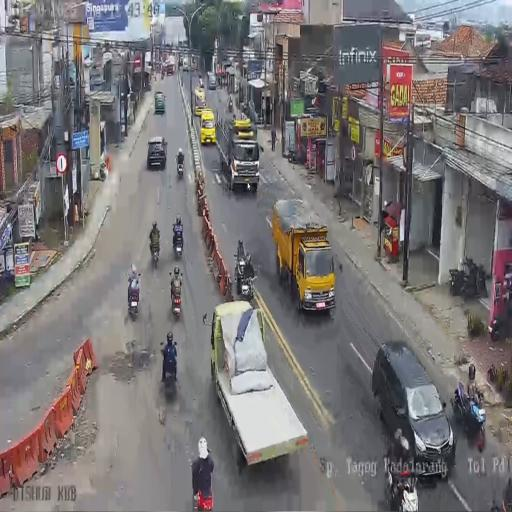3: (270, 200, 333, 316), (216, 110, 260, 192), (193, 86, 207, 115), (165, 55, 175, 74), (182, 55, 188, 71), (179, 55, 183, 68)
car: (372, 340, 452, 479), (146, 136, 166, 170), (200, 107, 216, 145), (154, 91, 165, 114), (207, 72, 216, 90)
truck: (490, 292, 512, 342), (161, 358, 178, 401), (169, 272, 183, 320), (150, 235, 160, 269), (176, 154, 185, 178), (161, 68, 165, 80)
